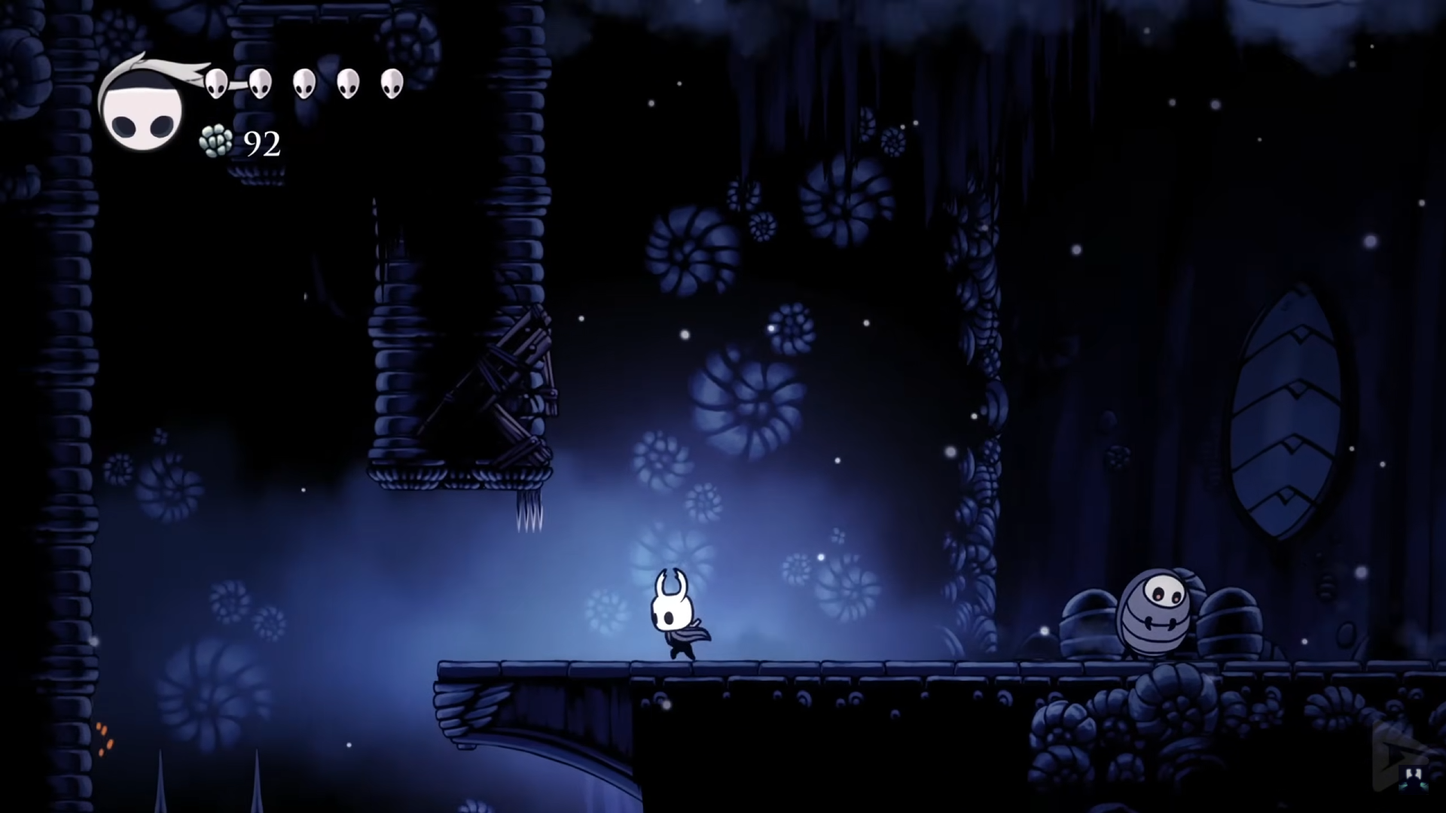HK: (645, 567, 709, 662)
